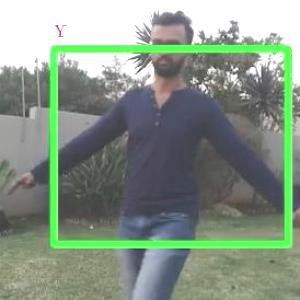land: (83, 76, 241, 268)
